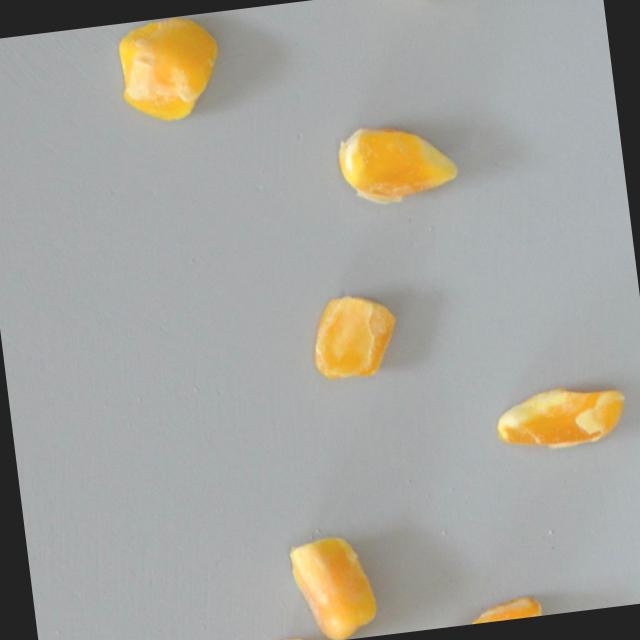pelicula: (112, 14, 227, 127), (333, 114, 461, 205), (284, 527, 380, 640), (490, 377, 629, 454), (306, 288, 402, 382), (427, 593, 542, 629)
